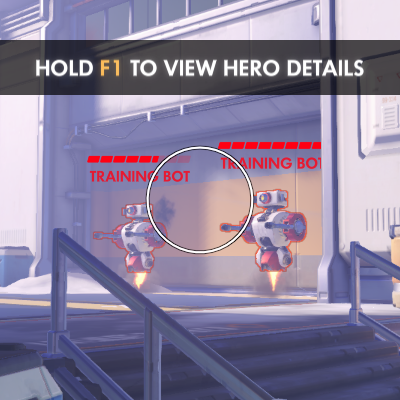hpbar: (217, 141, 322, 150), (87, 155, 191, 163)
